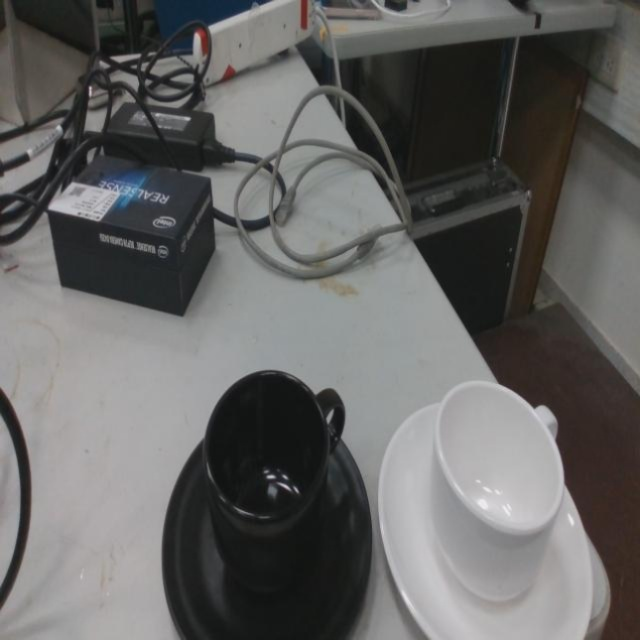black: (159, 364, 375, 640)
white: (376, 375, 596, 640)
